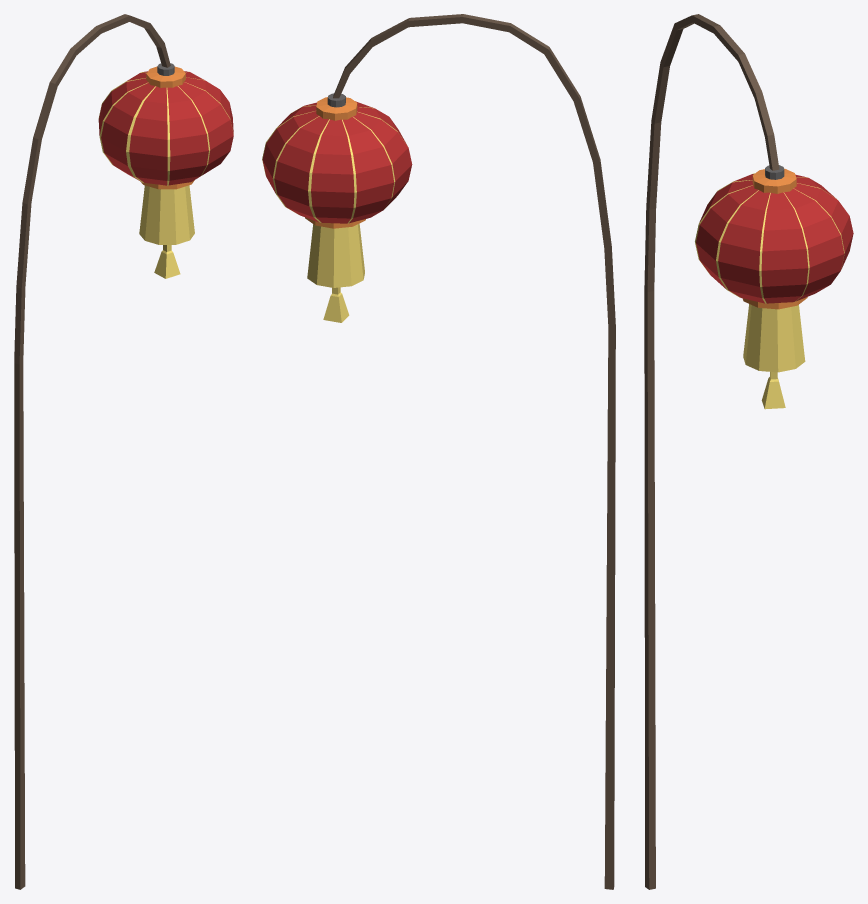
File: Lantern_1.fbx
3 views of the same model, side by side, from view 1: azimuth 30°, elevation 25°; view 2: azimuth 150°, elevation 25°; view 3: azimuth 270°, elevation 25° (orthographic). The views are drawn at different scales.
Parts seen in each view (by area): view 1: Lantern_1; view 2: Lantern_1; view 3: Lantern_1.
Part boxes in pixels (<box>): Lantern_1: <box>14,14,233,889</box>; Lantern_1: <box>262,14,615,889</box>; Lantern_1: <box>644,14,853,889</box>.
Size of the model in its own units: 115 by 69.21 by 336.
